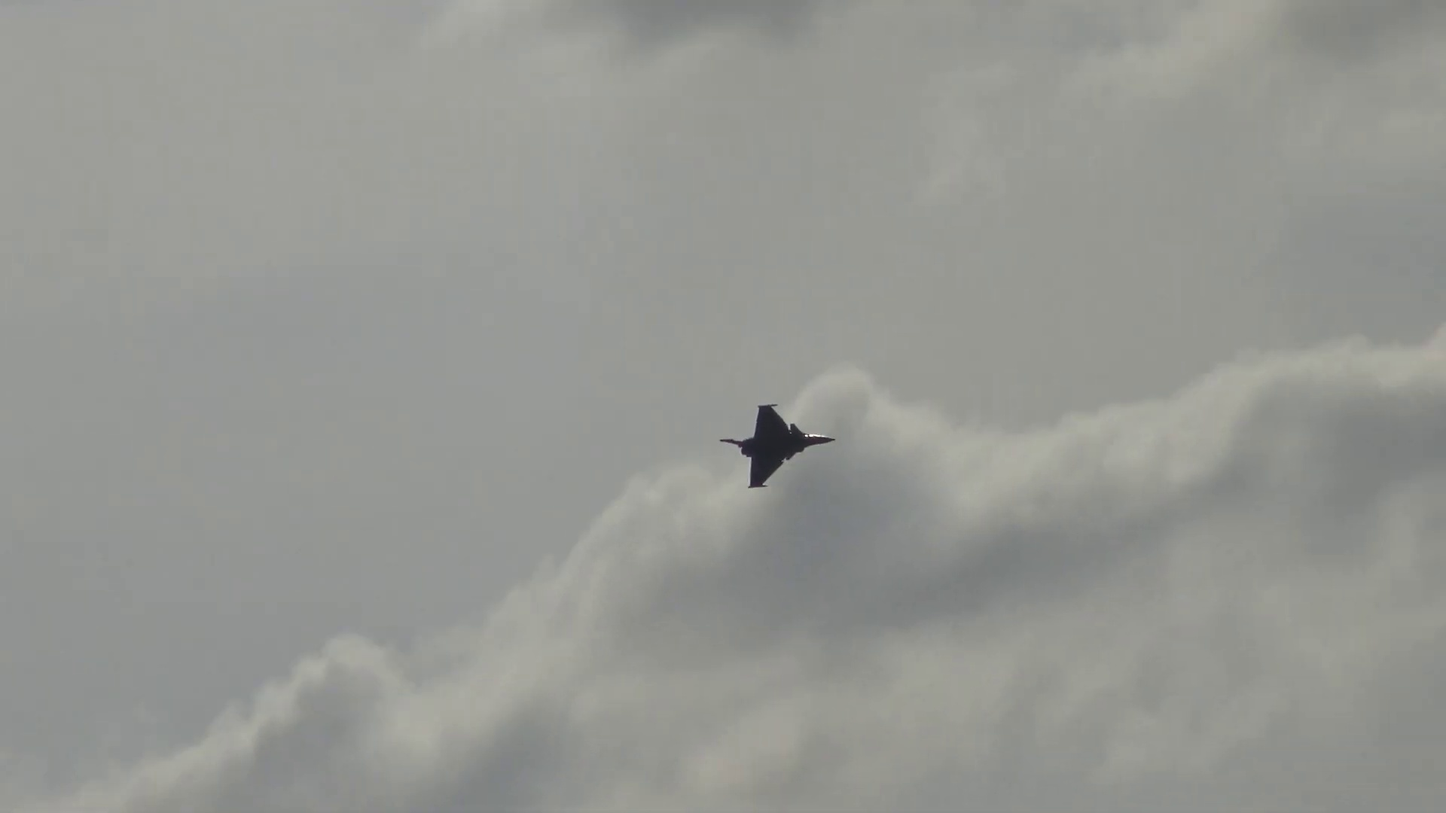Rafale: (720, 403, 836, 488)
